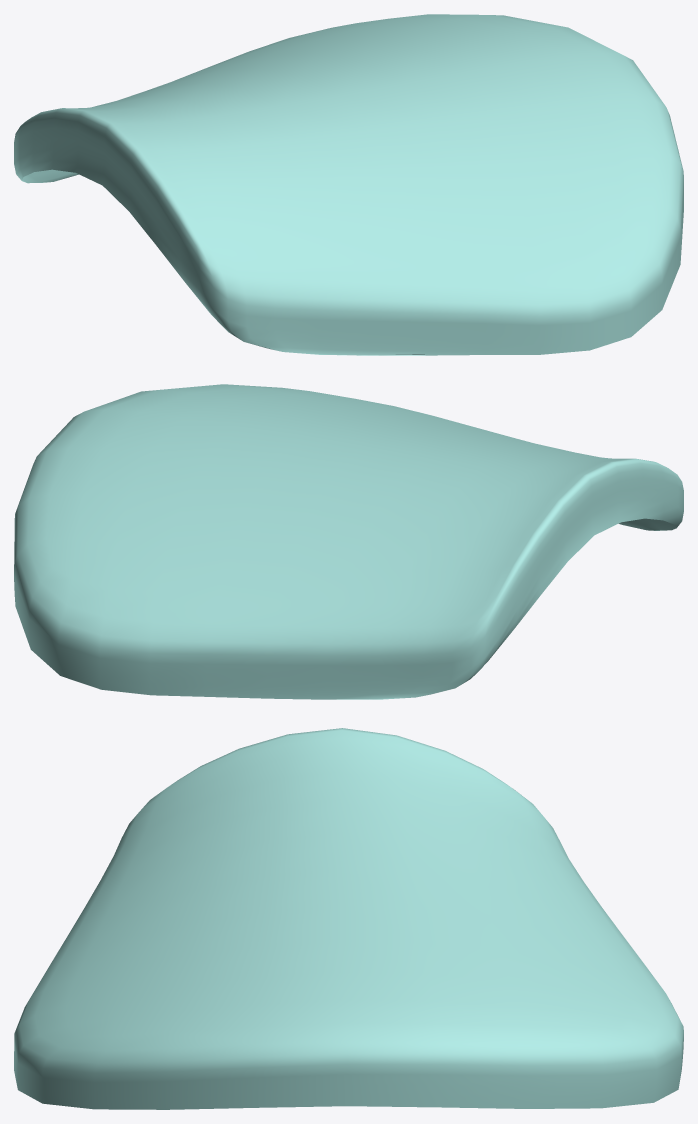
Rendered from tume_v1.fbx.
3 renders of one model, top to bottom at view 1: azimuth 30°, elevation 25°; view 2: azimuth 150°, elevation 25°; view 3: azimuth 270°, elevation 25°, orthographic. The views are drawn at different scales.
Parts seen in each view (by area): view 1: hand01:pCube6; view 2: hand01:pCube6; view 3: hand01:pCube6.
Part boxes in pixels (box(x1,y1,x2,y2)): hand01:pCube6: box(14, 14, 683, 355); hand01:pCube6: box(14, 384, 683, 699); hand01:pCube6: box(14, 728, 683, 1109).
Size of the model in its own units: 0.6424 by 0.211 by 0.6893.
